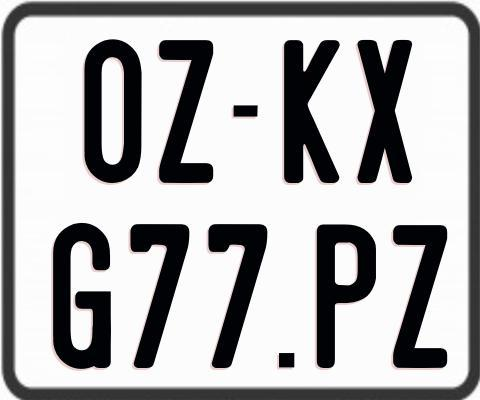0: (81, 36, 139, 183)
7: (208, 223, 270, 367), (128, 224, 188, 370)
G: (53, 221, 111, 369)
K: (283, 38, 341, 182)
P: (315, 222, 375, 366)
X: (357, 39, 417, 187)
Z: (159, 40, 217, 189), (390, 223, 446, 367)
